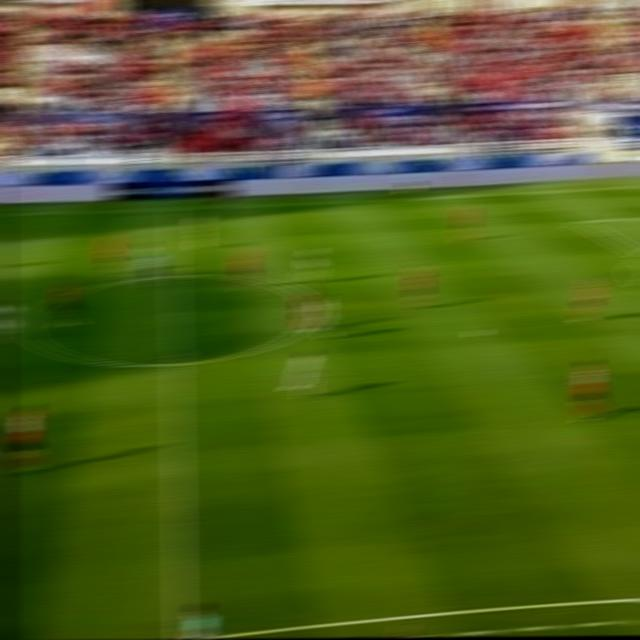bigarea_top_inner: (570, 213, 592, 229)
halfcircle_bottom: (162, 350, 191, 375)
halfcircle_top: (161, 264, 188, 285)
midline_top_intersection: (160, 199, 185, 216)
top_arc_area_intersection: (631, 247, 640, 263)
